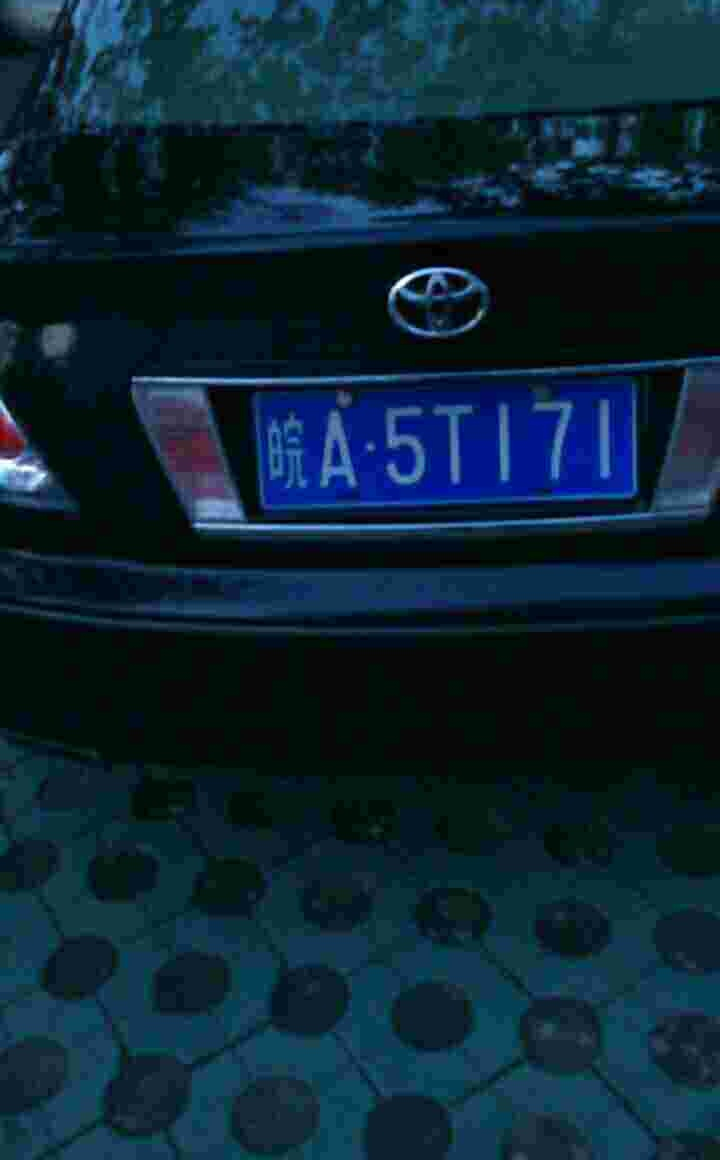license_plate: (261, 371, 659, 517)
